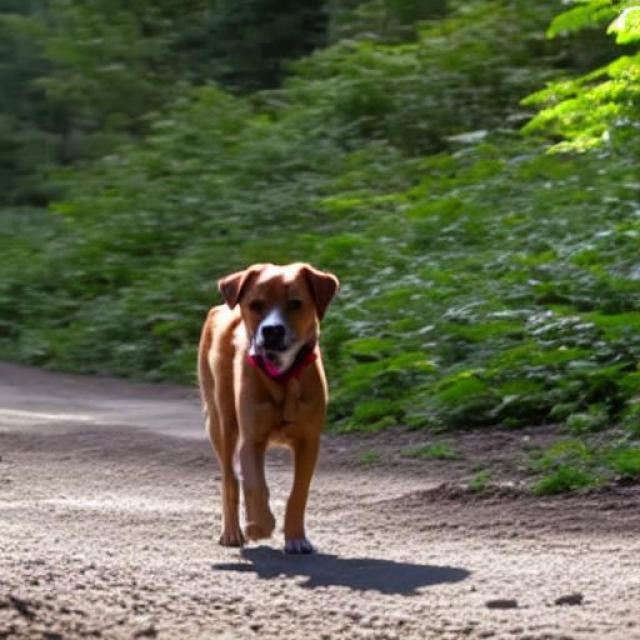Dog: (195, 261, 338, 556)
